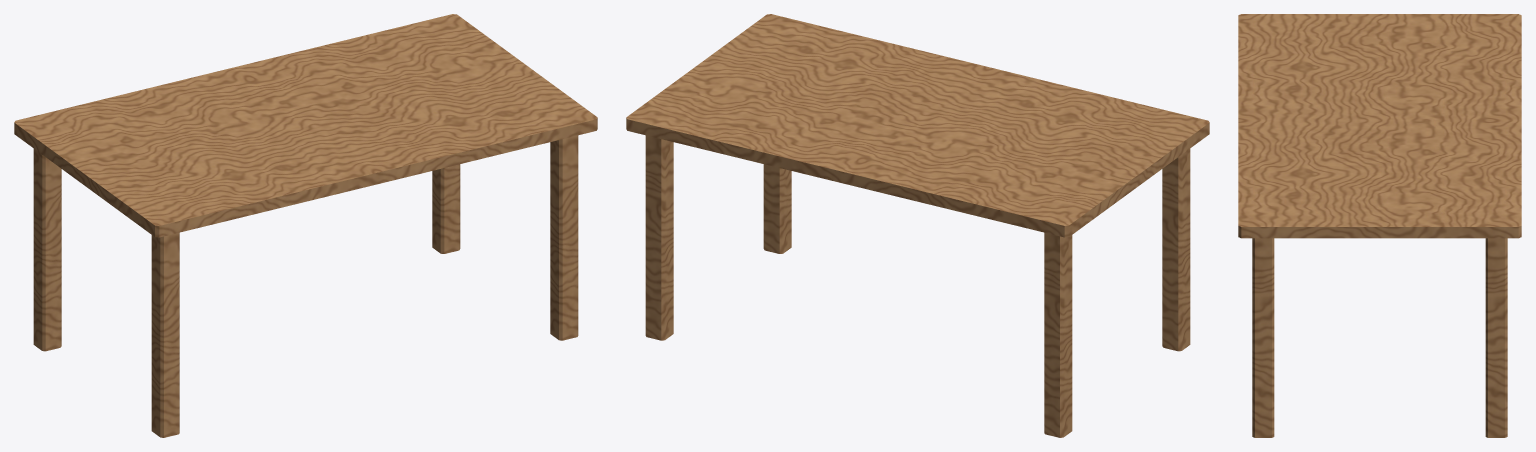
Rendered from table_dining.obj.
The picture shows the model from 3 angles, left to right: view 1: azimuth 30°, elevation 25°; view 2: azimuth 150°, elevation 25°; view 3: azimuth 270°, elevation 25°; orthographic projection.
Parts seen in each view (by area): view 1: table_dining; view 2: table_dining; view 3: table_dining.
Part boxes in pixels (x1,y1,x2,y2): table_dining: (14,14,597,437); table_dining: (626,14,1209,437); table_dining: (1238,14,1521,437).
Bounding box in the file's own units: 1.6 × 0.76 × 0.9.
1 material, 1 textured.
